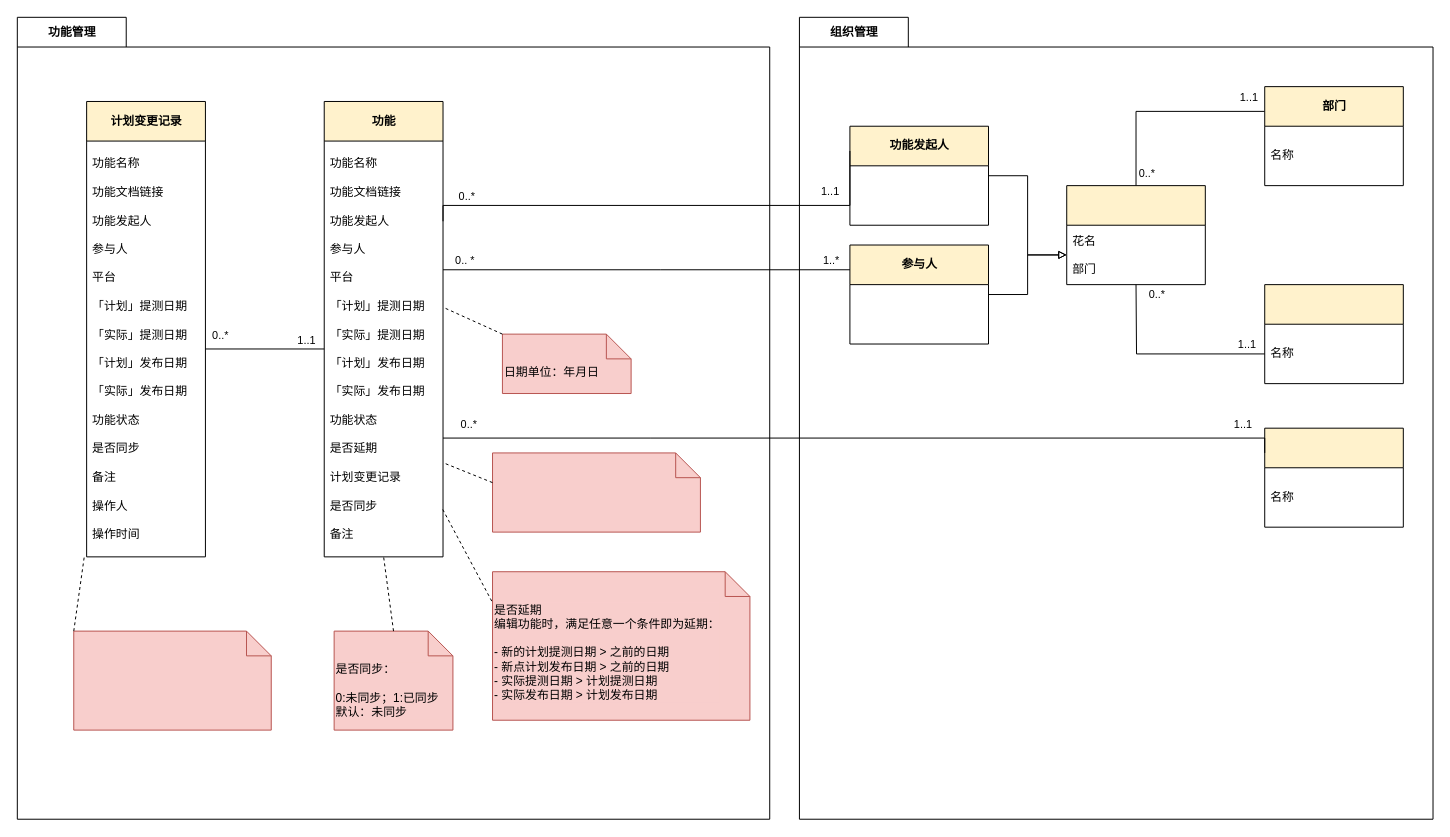
This 1450x837 diagram has some shape labels left out. Each missing label, with the box of its shape:
{ - 当创建功能时，创建一条变更记录 - 当编辑功能时，创建一条变更记录 }: (73, 630, 271, 730)
功能状态： 开发中、测试中、未发、已发: (492, 452, 700, 532)
员工: (1066, 185, 1205, 285)
平台: (1264, 427, 1403, 527)
角色: (1264, 284, 1403, 384)
